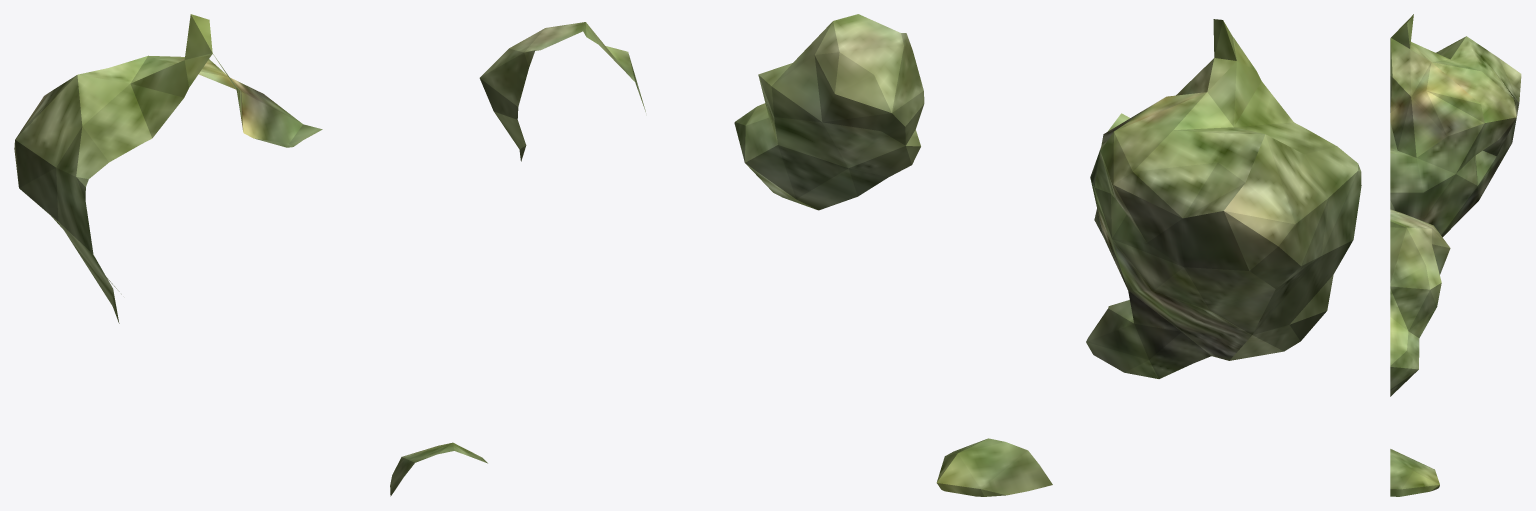
3 views of the same model, side by side, from view 1: azimuth 30°, elevation 25°; view 2: azimuth 150°, elevation 25°; view 3: azimuth 270°, elevation 25° (orthographic). The views are drawn at different scales.
Bounding box in the file's own units: 1.51 × 1.2 × 0.374.
Materials: 1 (1 with a texture image).
